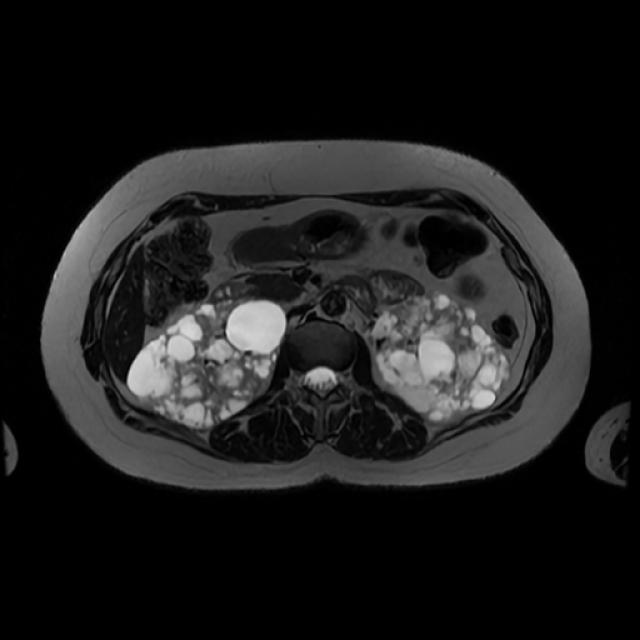sag: (126, 297, 288, 430)
sol: (372, 292, 511, 428)
